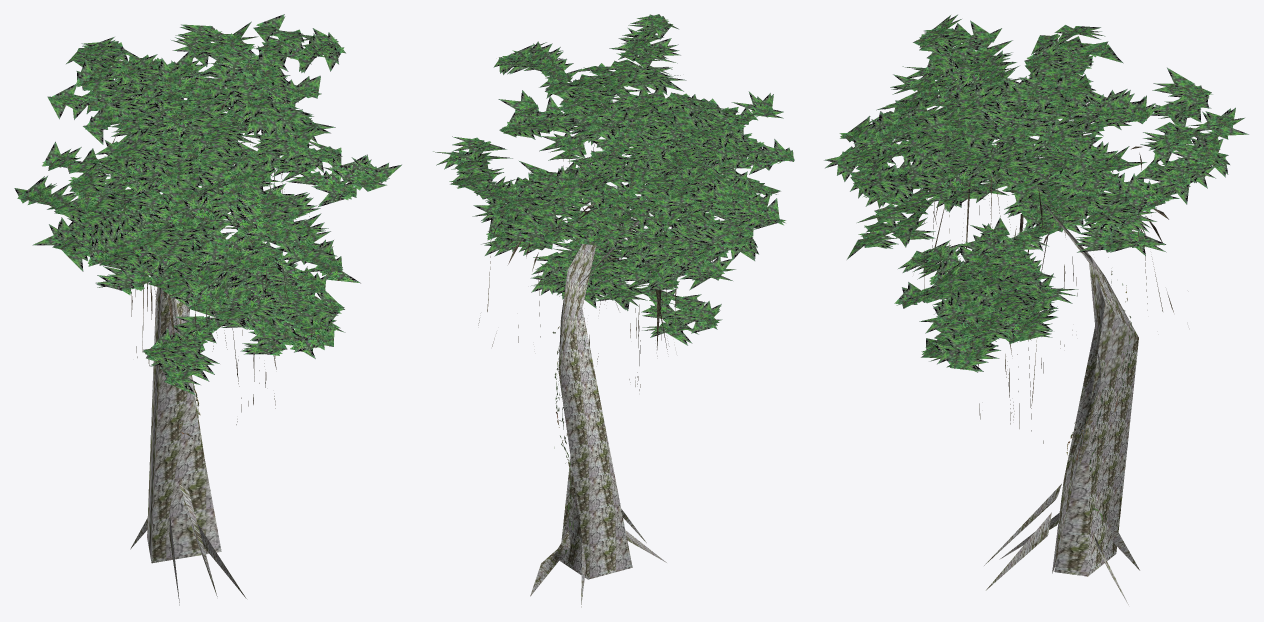
Rendered from Big_tree_01_D.glb.
The picture shows the model from 3 angles, left to right: view 1: azimuth 30°, elevation 25°; view 2: azimuth 150°, elevation 25°; view 3: azimuth 270°, elevation 25°; orthographic projection. The views are drawn at different scales.
Parts seen in each view (by area): view 1: Big_tree_01_D; view 2: Big_tree_01_D; view 3: Big_tree_01_D.
Part boxes in pixels (box(x1,y1,x2,y2)): Big_tree_01_D: box(14, 14, 401, 605); Big_tree_01_D: box(433, 14, 794, 607); Big_tree_01_D: box(824, 14, 1248, 604).
Size of the model in its own units: 12.4 by 21.4 by 14.68.
4 materials, 4 textured.
